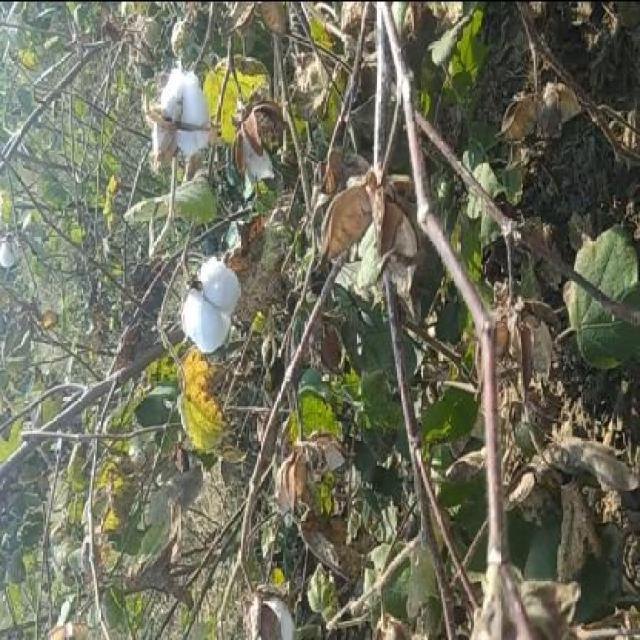cotton_ready: (171, 226, 260, 405), (130, 63, 228, 202)
